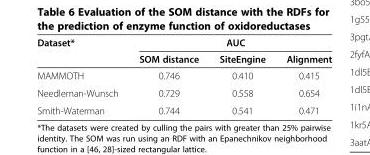table: (36, 36, 331, 115)
table column: (36, 36, 128, 115), (128, 36, 208, 115), (208, 36, 275, 115), (275, 36, 331, 115)
table column header: (36, 36, 331, 66)
table row: (36, 83, 331, 101), (36, 66, 331, 83), (36, 50, 331, 66), (36, 36, 331, 50), (36, 101, 331, 115)
table spanning cell: (128, 36, 331, 50), (36, 36, 128, 66)
